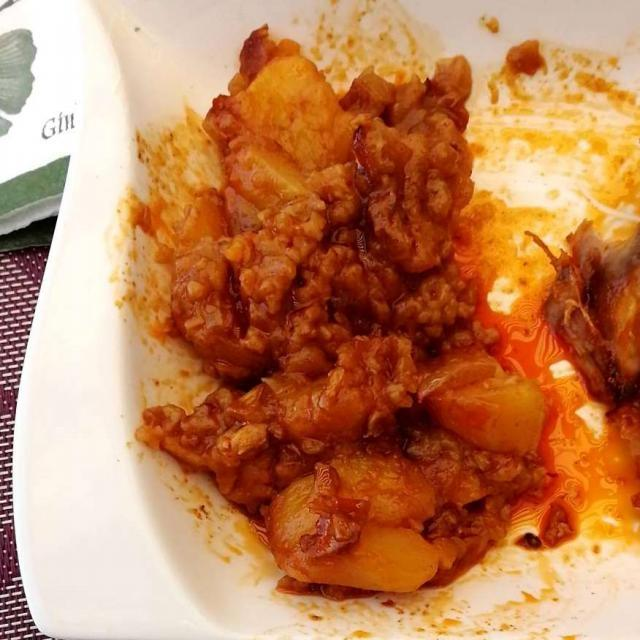potatoes: (177, 56, 564, 605)
